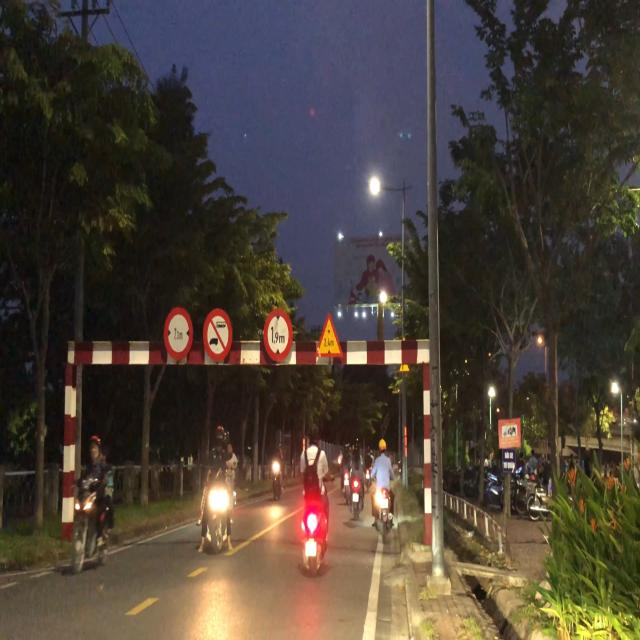Bien bao cam xe oto khach va xe oto tai: (202, 305, 234, 368)
Bien bao chieu cao tinh khong thuc te: (314, 306, 343, 362)
Bien bao han che chieu cao: (262, 305, 294, 366)
